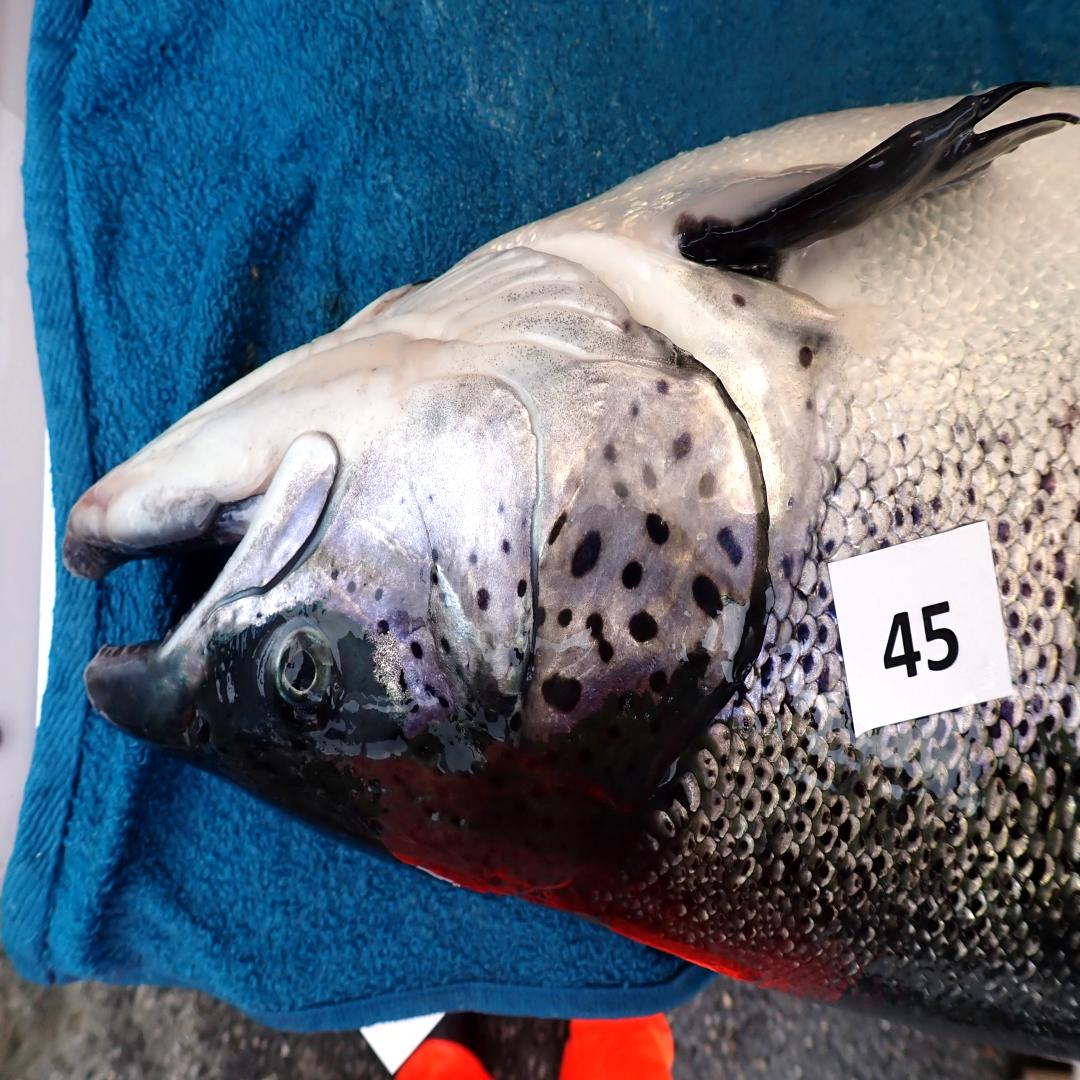roi: (328, 246, 767, 732)
